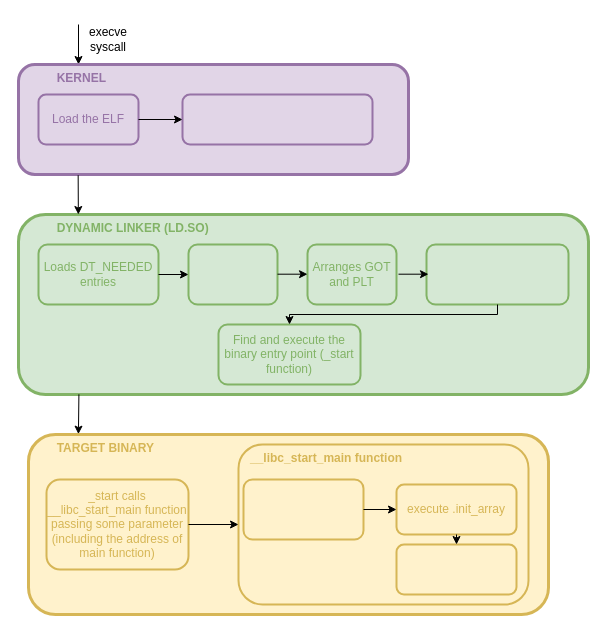
This 607x633 diagram has some shape labels left out. Here are the shapes that lost their labels. From the top down, the centre of each, then its label:
At (x=277, y=119): "reads PT_INTERP segment to locate the interpreter ( dynamic linker )".
At (x=232, y=274): "Resolve the relocations".
At (x=497, y=274): "Execute initializer of libraries (.init_array sections of the DT_NEEDED entries)".
At (x=303, y=509): "initialize parameters and environment in order to execute the binary".
At (x=456, y=569): "invoke main function".
